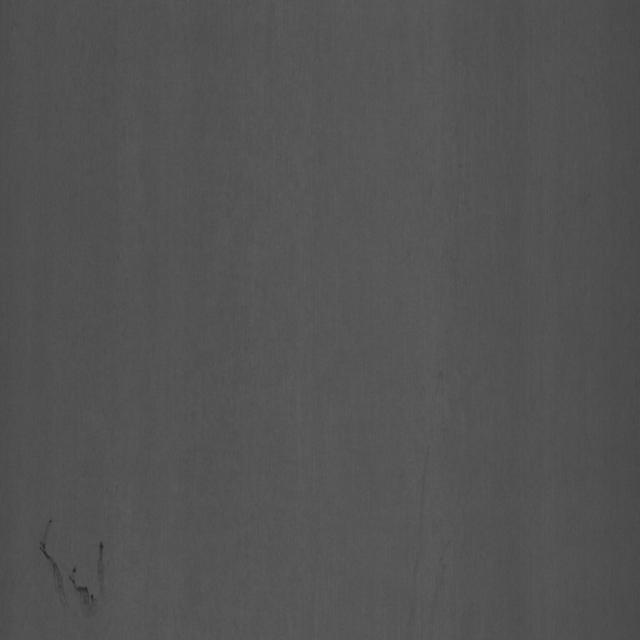water_spot: (28, 504, 122, 635)
